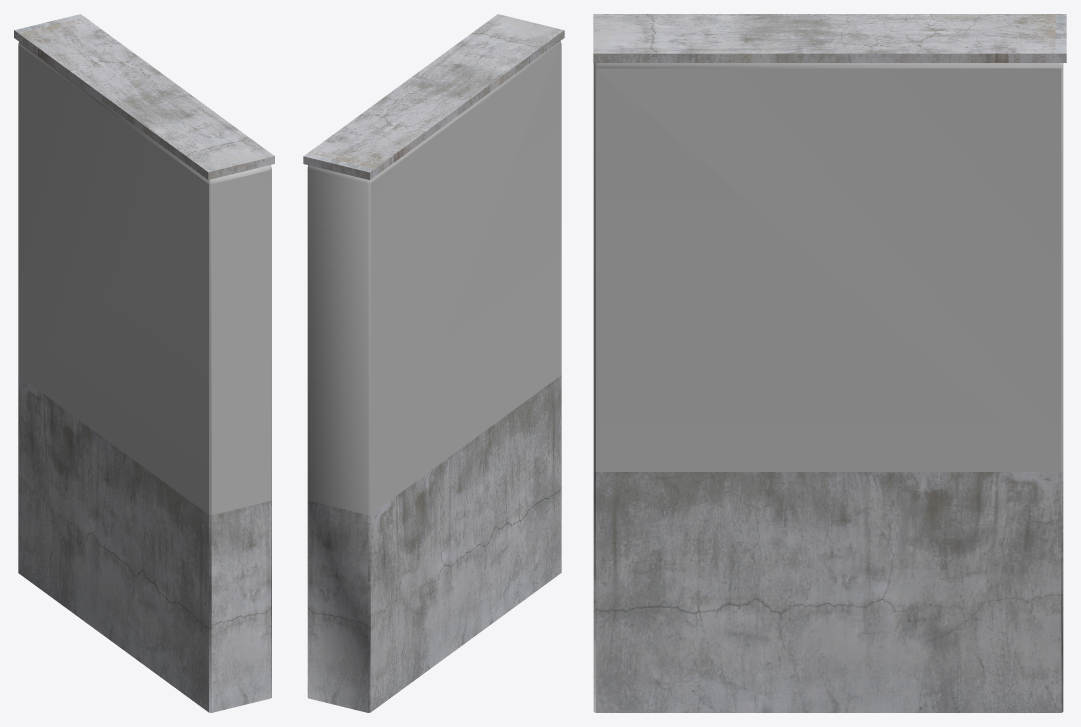
The model's file is entgate_parts02b.fbx.
3 renders of one model, left to right at view 1: azimuth 30°, elevation 25°; view 2: azimuth 150°, elevation 25°; view 3: azimuth 270°, elevation 25°, orthographic. The views are drawn at different scales.
Parts seen in each view (by area): view 1: entgate_parts02b; view 2: entgate_parts02b; view 3: entgate_parts02b.
Boxes of the visible parts, box(x1,y1,x2,y2) form: entgate_parts02b: box(14, 14, 274, 712); entgate_parts02b: box(303, 14, 564, 712); entgate_parts02b: box(593, 14, 1066, 712).
Bounding box in the file's own units: 0.2047 × 1.59 × 1.04.
